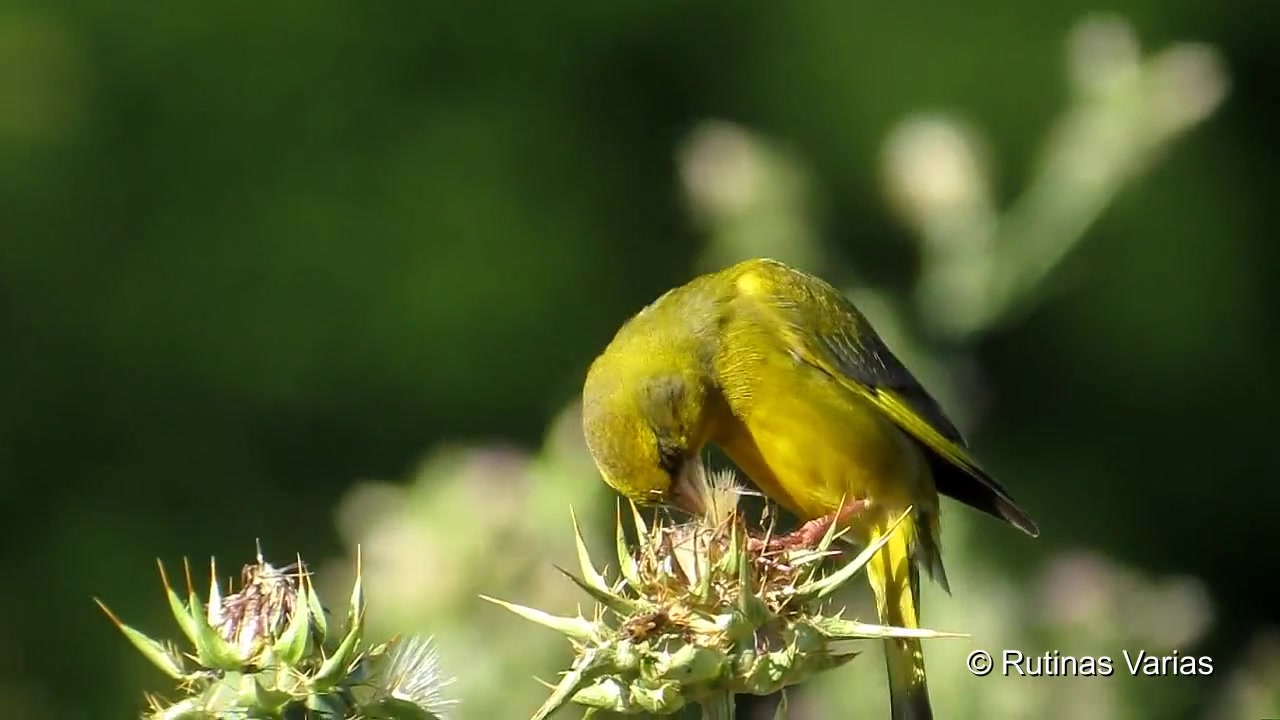bird: (581, 256, 1042, 720)
